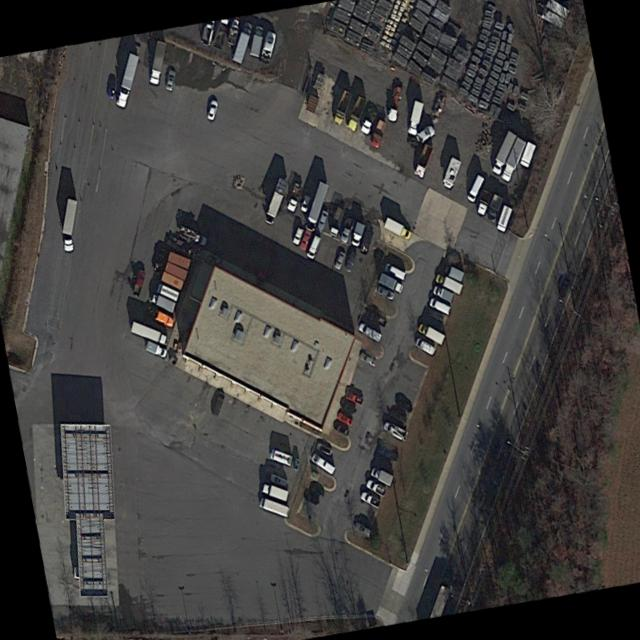large-vehicle: (116, 53, 140, 110), (306, 181, 330, 232), (264, 178, 289, 226), (503, 137, 528, 183), (492, 131, 517, 174), (130, 320, 170, 346), (61, 196, 79, 251), (147, 39, 168, 86), (412, 143, 436, 180), (233, 24, 254, 65), (258, 496, 291, 521), (417, 321, 447, 347), (346, 97, 368, 132), (435, 271, 464, 296), (442, 156, 462, 192), (333, 91, 354, 125), (384, 217, 412, 241), (149, 293, 178, 314), (261, 482, 289, 503), (329, 206, 347, 238), (360, 106, 379, 136), (268, 447, 295, 468), (155, 282, 182, 303), (369, 119, 387, 150), (379, 273, 404, 295), (409, 101, 425, 135), (496, 204, 513, 234), (250, 25, 265, 58), (432, 285, 456, 305), (487, 193, 503, 222), (519, 142, 536, 169), (443, 264, 466, 283), (154, 310, 176, 329), (477, 190, 492, 217)
small-vehicle: (381, 419, 410, 445), (356, 320, 384, 344), (466, 172, 486, 205), (311, 452, 336, 477), (369, 465, 395, 487), (427, 296, 453, 318), (260, 30, 278, 61), (413, 336, 437, 359), (376, 442, 400, 464), (143, 340, 169, 360), (209, 390, 228, 417), (366, 478, 388, 499), (415, 124, 436, 146), (384, 262, 407, 282), (130, 270, 147, 297), (357, 229, 374, 256), (360, 490, 382, 510), (306, 235, 323, 260), (340, 216, 355, 244), (335, 410, 355, 430), (358, 349, 378, 369), (353, 521, 374, 540), (393, 395, 414, 414), (345, 390, 366, 408), (375, 285, 396, 303), (269, 472, 290, 490), (308, 481, 327, 500), (303, 489, 322, 507), (344, 250, 358, 274), (299, 229, 314, 251), (333, 420, 351, 438), (315, 441, 334, 458), (291, 225, 305, 246), (300, 193, 314, 214), (207, 99, 219, 122), (334, 251, 346, 273), (317, 210, 329, 232), (106, 78, 117, 99), (166, 70, 177, 91)
